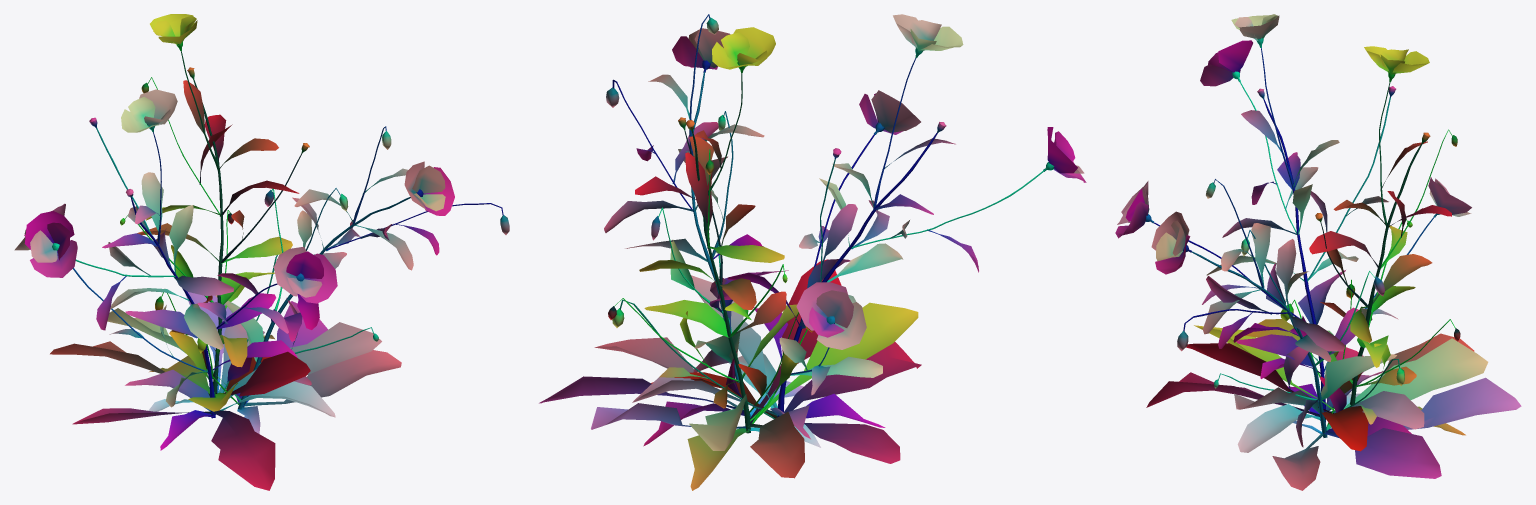
The model's file is Field_Poppy_vmcobd0ja_Mid_vmcobd0ja_VarF_LOD0.fbx.
The picture shows the model from 3 angles, left to right: view 1: azimuth 30°, elevation 25°; view 2: azimuth 150°, elevation 25°; view 3: azimuth 270°, elevation 25°; orthographic projection. The views are drawn at different scales.
Visible parts, largest first — view 1: _pwky_VarF_LOD1; view 2: _pwky_VarF_LOD1; view 3: _pwky_VarF_LOD1.
Part boxes in pixels (x1,y1,x2,y2): _pwky_VarF_LOD1: (14, 14, 509, 490); _pwky_VarF_LOD1: (539, 14, 1086, 490); _pwky_VarF_LOD1: (1115, 14, 1521, 490).
Size of the model in its own units: 62.77 by 50.49 by 48.59.
